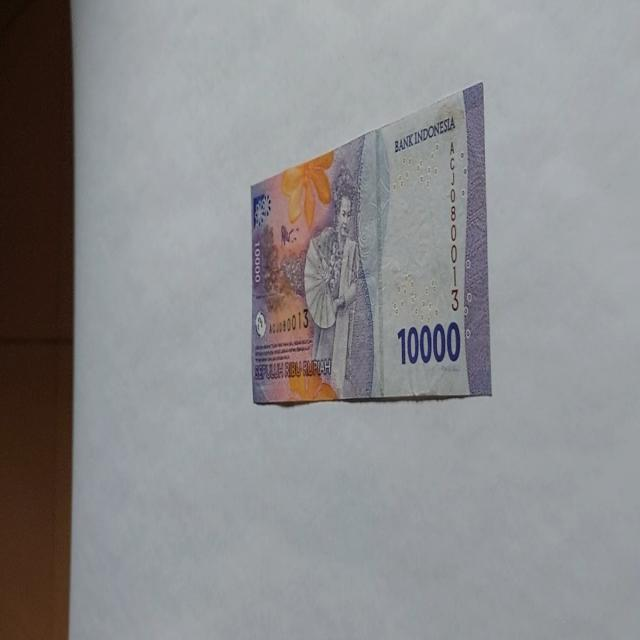sepuluh ribu rupiah: (249, 80, 492, 406)
